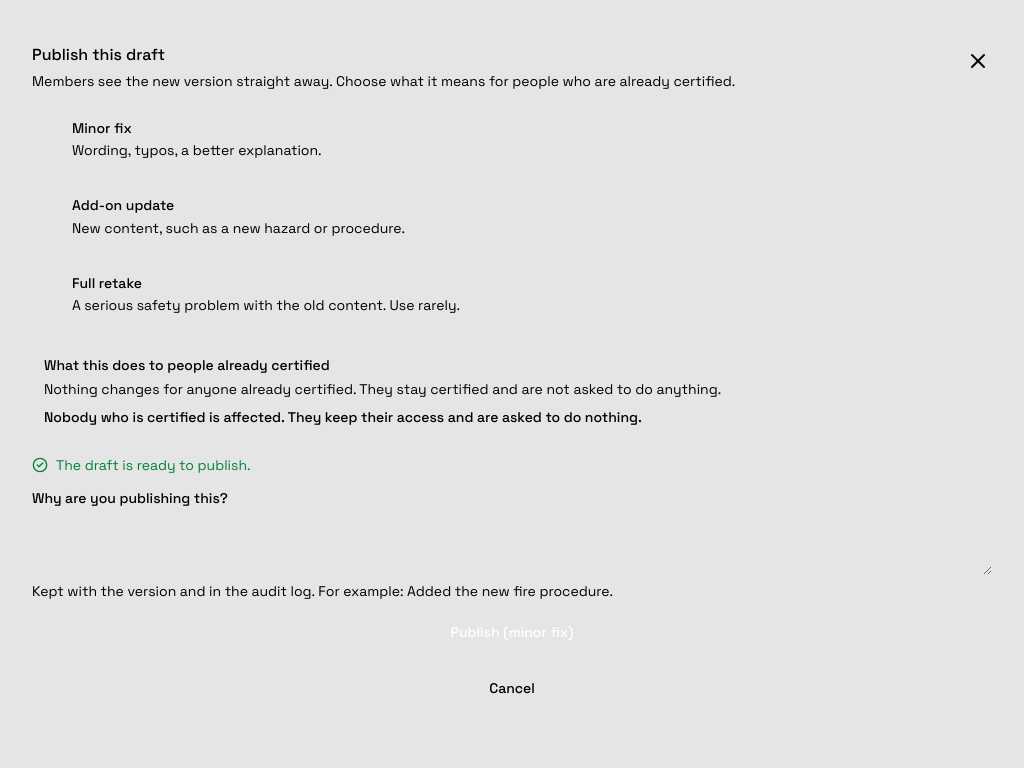
PublishDialog publishing › shows a missing permission in plain words
Check: the text "The draft is ready to publish." is shown, box [32,456,250,474]
Type "  New fire procedure " into the text box labelled "Why are you publishing this?" at coordinates (512, 542), box [32,510,992,574]
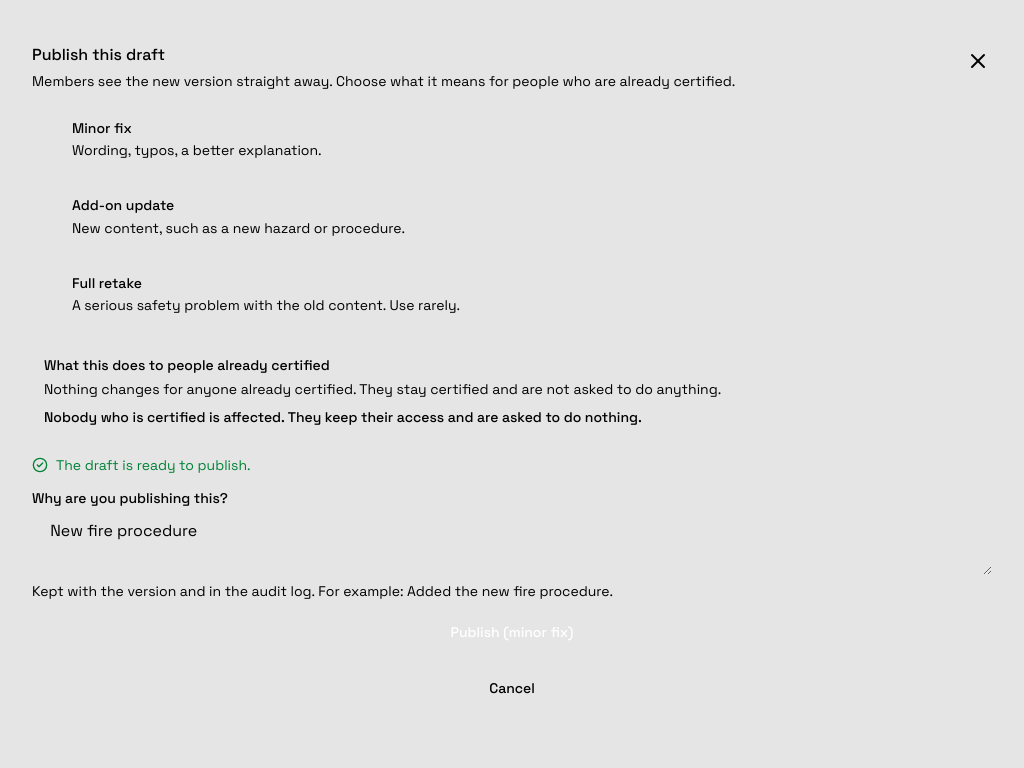
Click the button "Publish (minor fix)" at coordinates (512, 631), box [32,609,992,653]
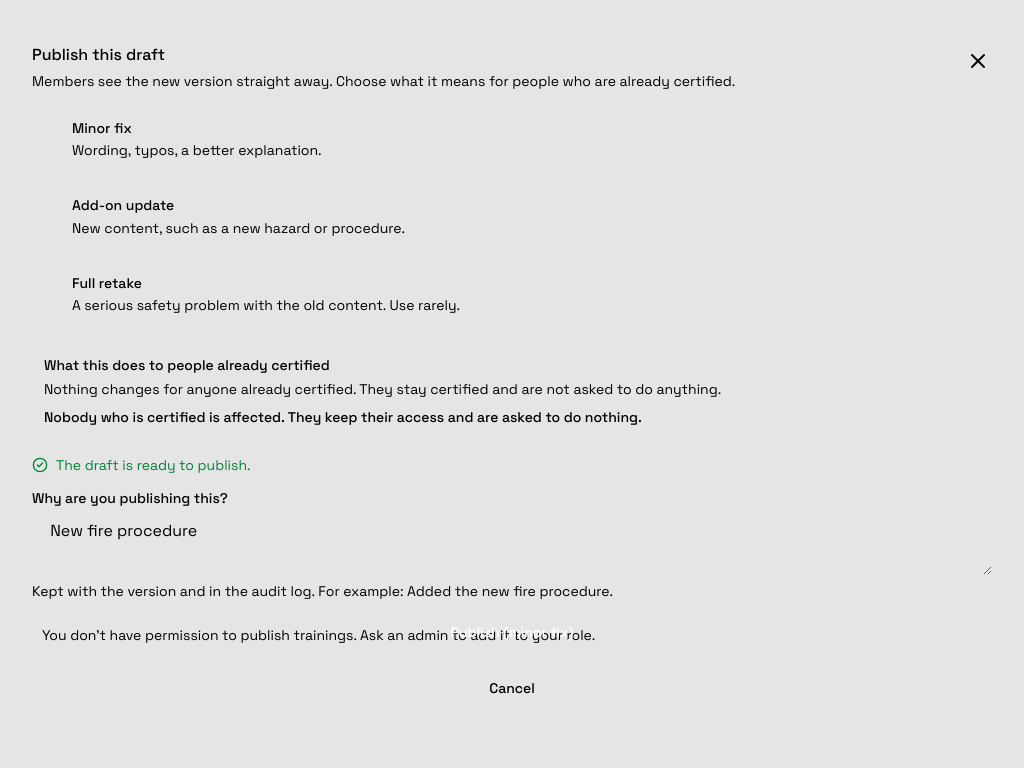
Check: the text "permission to publish trainings" is shown, box [42,626,595,644]
